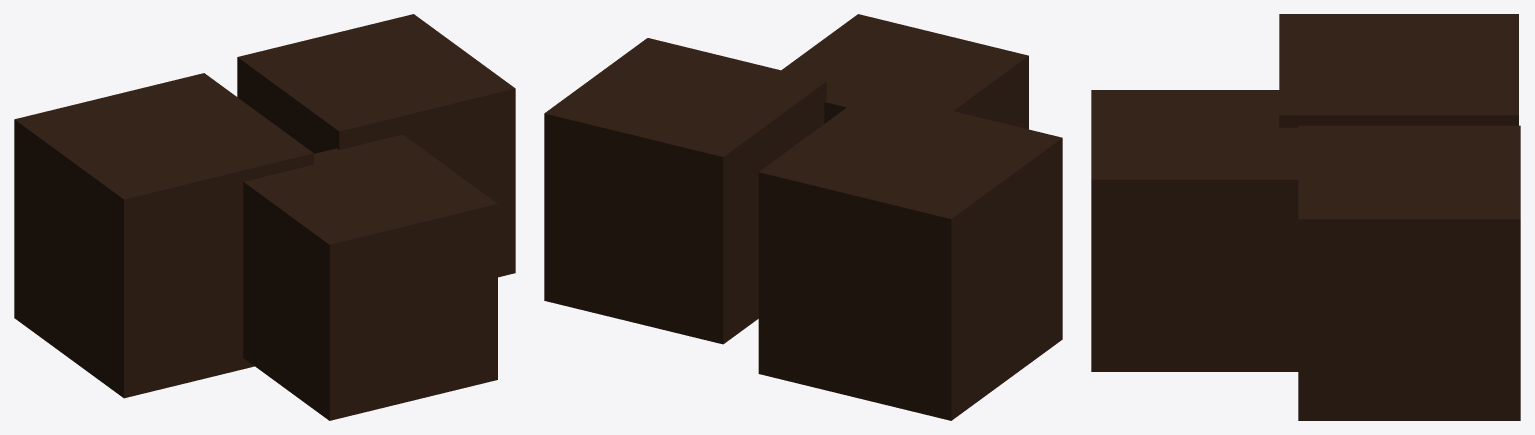
The model's file is SM_BreeCrateStack.obj.
3 views of the same model, side by side, from view 1: azimuth 30°, elevation 25°; view 2: azimuth 150°, elevation 25°; view 3: azimuth 270°, elevation 25° (orthographic). The views are drawn at different scales.
Visible parts, largest first — view 1: SM_BreeCrateStack; view 2: SM_BreeCrateStack; view 3: SM_BreeCrateStack.
Part boxes in pixels (left/top/right/bottom): SM_BreeCrateStack: left=14, top=14, right=515, bottom=420; SM_BreeCrateStack: left=544, top=14, right=1062, bottom=420; SM_BreeCrateStack: left=1091, top=14, right=1520, bottom=420.
Bounding box in the file's own units: 148 × 72.5 × 126.
